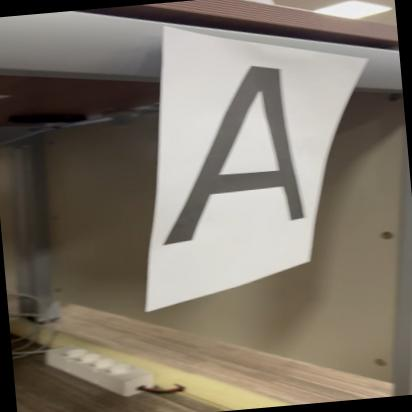seat: (152, 54, 324, 248)
